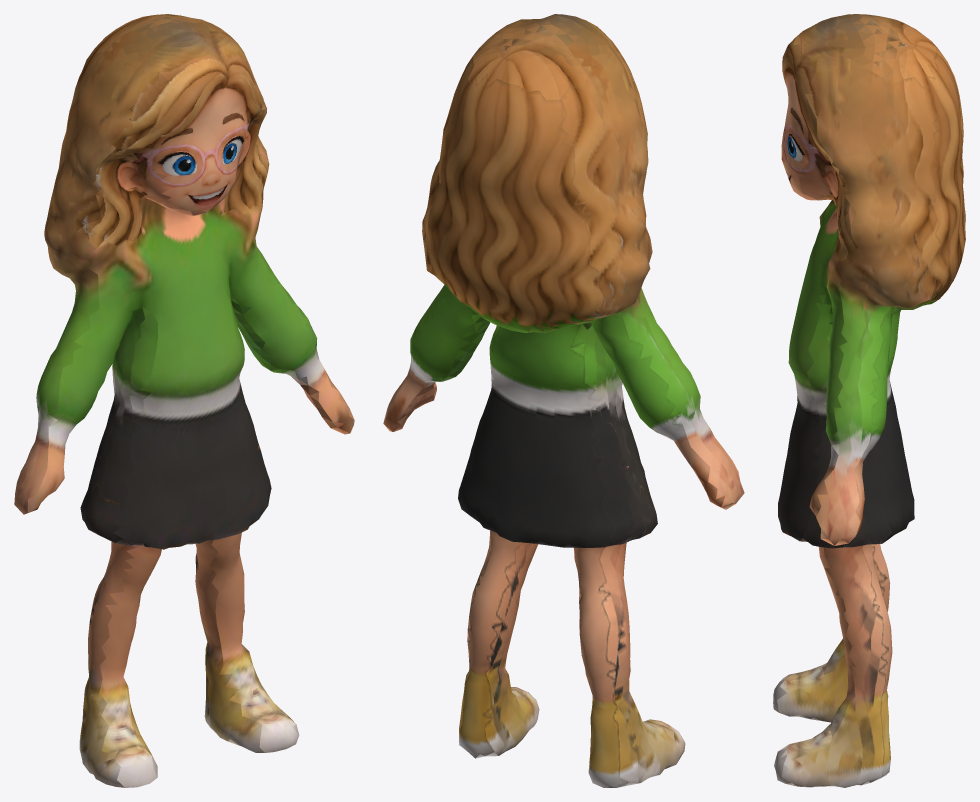
Rendered from charlotte-toon.glb.
3 renders of one model, left to right at view 1: azimuth 30°, elevation 25°; view 2: azimuth 150°, elevation 25°; view 3: azimuth 270°, elevation 25°, orthographic. The views are drawn at different scales.
Parts seen in each view (by area): view 1: world; view 2: world; view 3: world.
Part boxes in pixels (x1=…): world: x1=14, y1=14, x2=354, y2=787; world: x1=383, y1=14, x2=744, y2=787; world: x1=773, y1=14, x2=965, y2=787.
Bounding box in the file's own units: 0.4577 × 0.9415 × 0.2262.
1 material, 1 textured.
